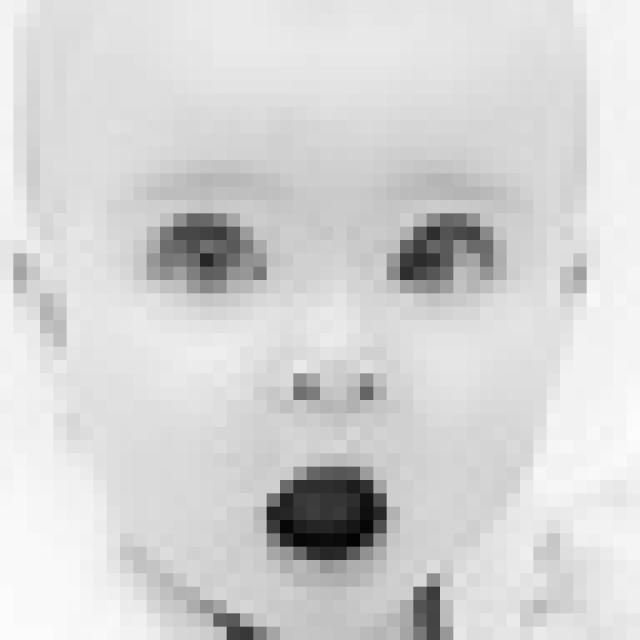surprise: (109, 158, 530, 581)
